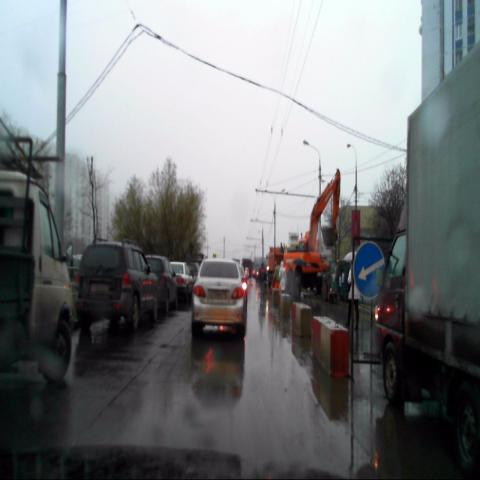4_2_2: (353, 242, 385, 299)
